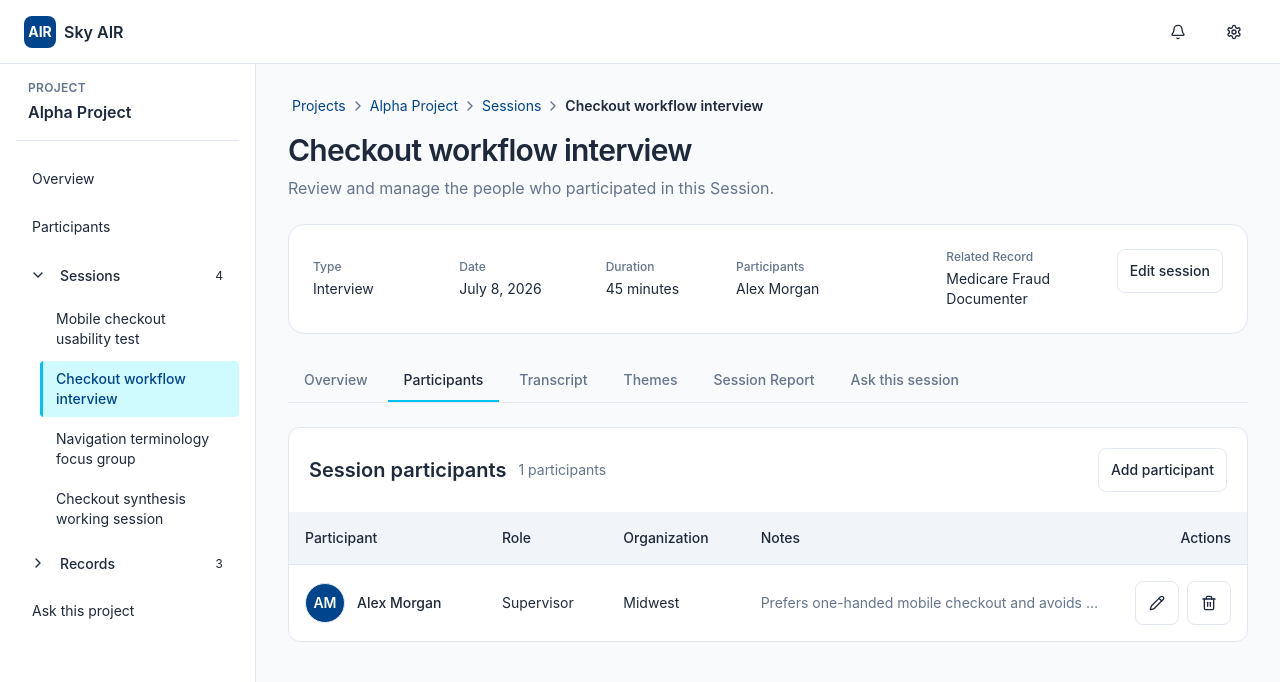
Test: application router foundation › keeps the participant assigned and shows feedback when Session removal fails
Click the button named "Remove participant from Session: Alex Morgan" at (1209, 603), box [1187,581,1231,625]
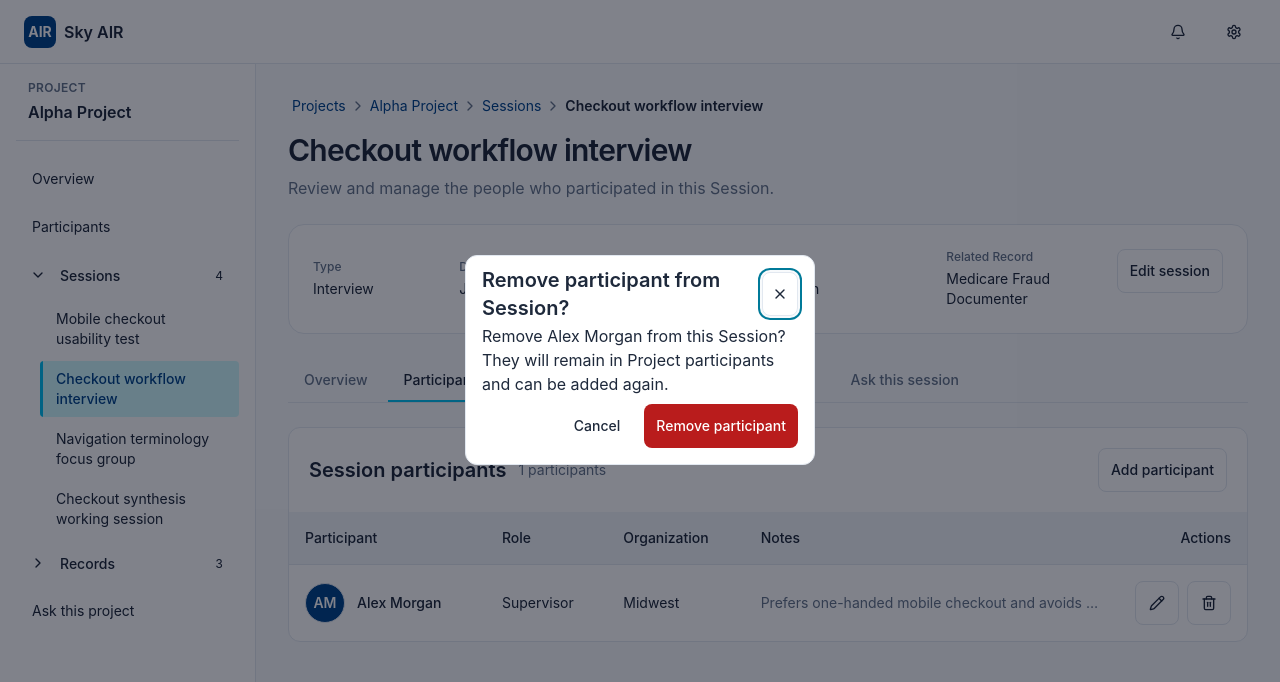
Click the button "Remove participant" at (721, 426), box [644,404,798,448]
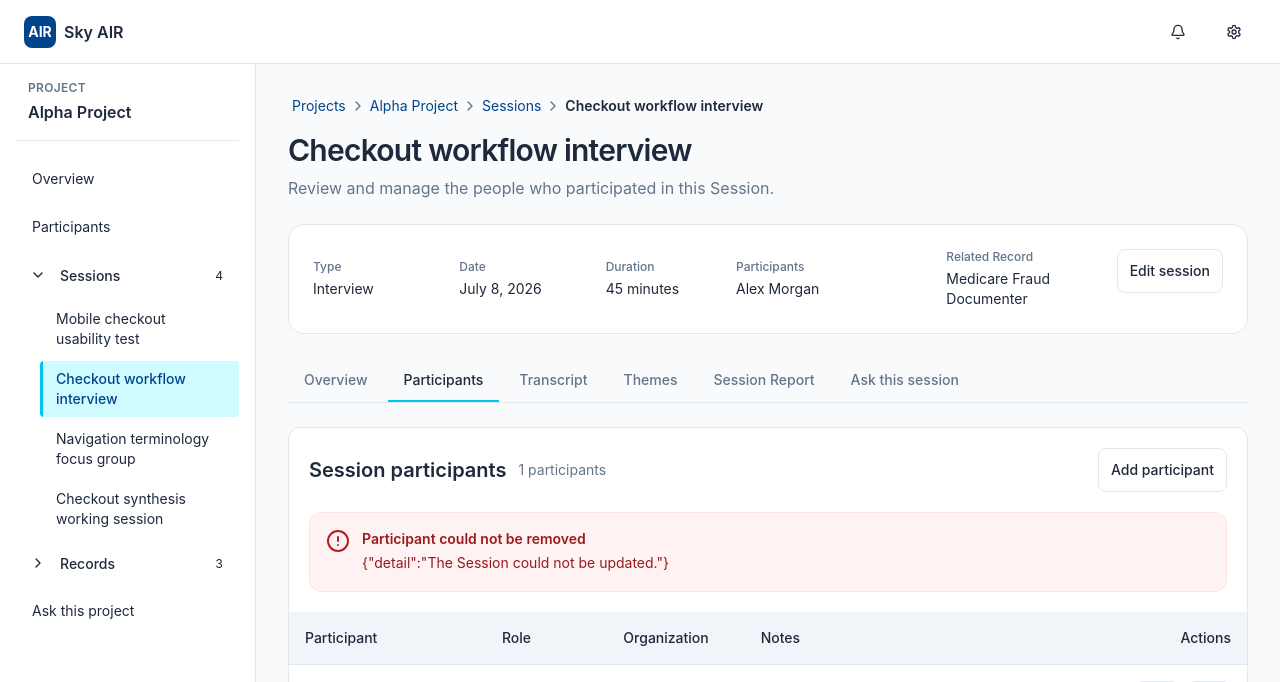
Check: the text "1 participants" is shown, box [518,460,606,480]
Check: the message shows "Participant could not be removed", box [362,530,586,547]
